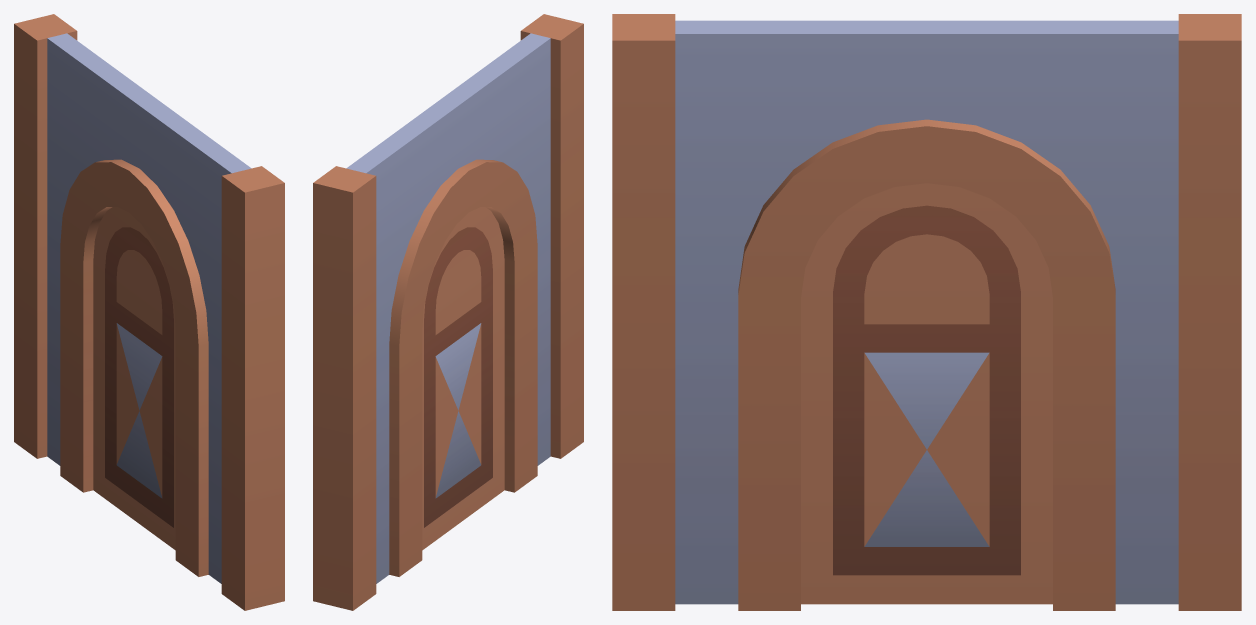
The model's file is wall-door.glb.
3 views of the same model, side by side, from view 1: azimuth 30°, elevation 25°; view 2: azimuth 150°, elevation 25°; view 3: azimuth 270°, elevation 25° (orthographic). The views are drawn at different scales.
Parts seen in each view (by area): view 1: wall-door, door; view 2: wall-door, door; view 3: wall-door, door.
Boxes of the visible parts, x1,y1,x2,y2 form: wall-door: (14,14,284,610); door: (93,207,175,550); wall-door: (313,14,583,610); door: (422,207,504,550); wall-door: (612,14,1241,610); door: (801,183,1052,604).
Bounding box in the file's own units: 0.1 × 1 × 1.
Materials: 1 (1 with a texture image).
